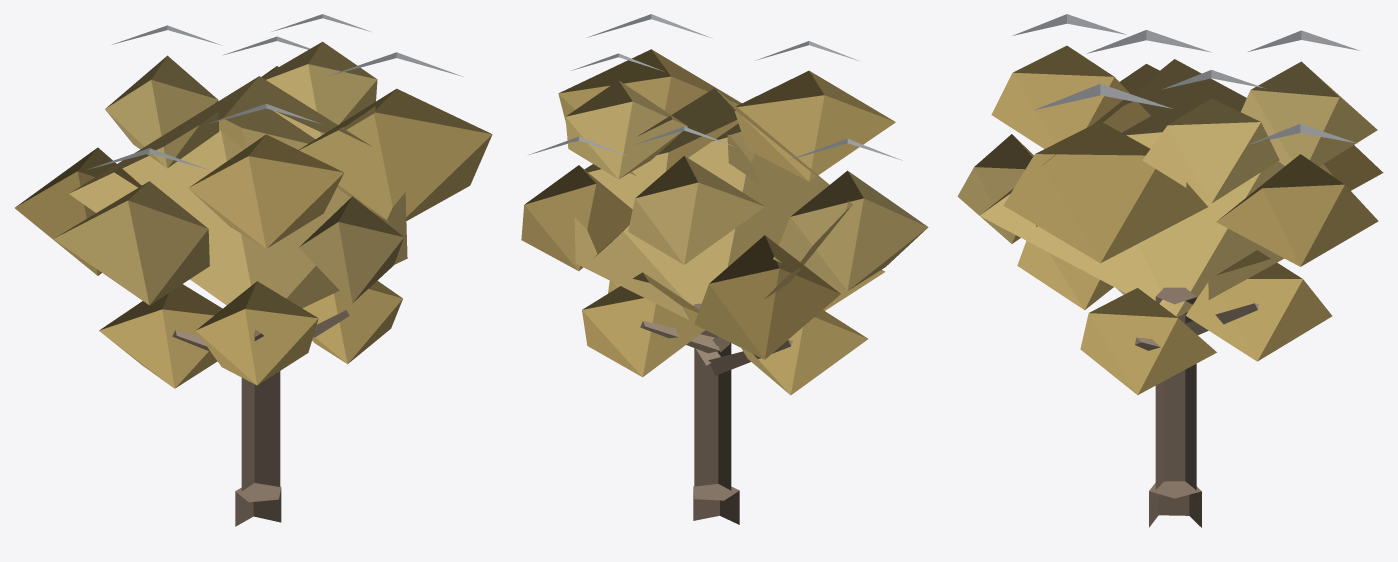
File: tree.cold.willow__autumn.glb
The picture shows the model from 3 angles, left to right: view 1: azimuth 30°, elevation 25°; view 2: azimuth 150°, elevation 25°; view 3: azimuth 270°, elevation 25°; orthographic projection. The views are drawn at different scales.
Parts seen in each view (by area): view 1: tree.cold.willow__autumn; view 2: tree.cold.willow__autumn; view 3: tree.cold.willow__autumn.
Part boxes in pixels (x1,y1,x2,y2): tree.cold.willow__autumn: (15,14,492,526); tree.cold.willow__autumn: (521,14,928,524); tree.cold.willow__autumn: (957,14,1383,527).
Bounding box in the file's own units: 4.58 × 5.42 × 4.22.
